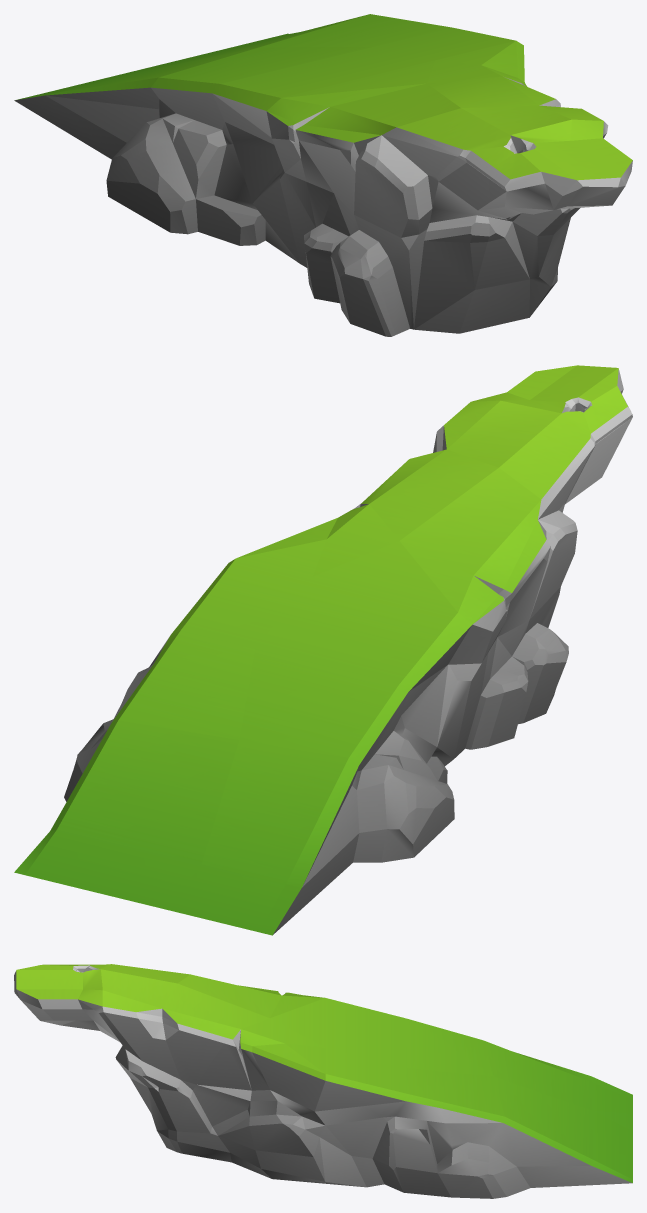
The model's file is Terrain_Cliff_1.fbx.
The picture shows the model from 3 angles, top to bottom: view 1: azimuth 30°, elevation 25°; view 2: azimuth 150°, elevation 25°; view 3: azimuth 270°, elevation 25°; orthographic projection. The views are drawn at different scales.
Visible parts, largest first — view 1: Terrain_Cliff_1; view 2: Terrain_Cliff_1; view 3: Terrain_Cliff_1.
Boxes of the visible parts, x1,y1,x2,y2 form: Terrain_Cliff_1: (14, 14, 632, 336); Terrain_Cliff_1: (14, 365, 632, 935); Terrain_Cliff_1: (14, 964, 632, 1198).
Size of the model in its own units: 31.28 by 20.21 by 72.29.
